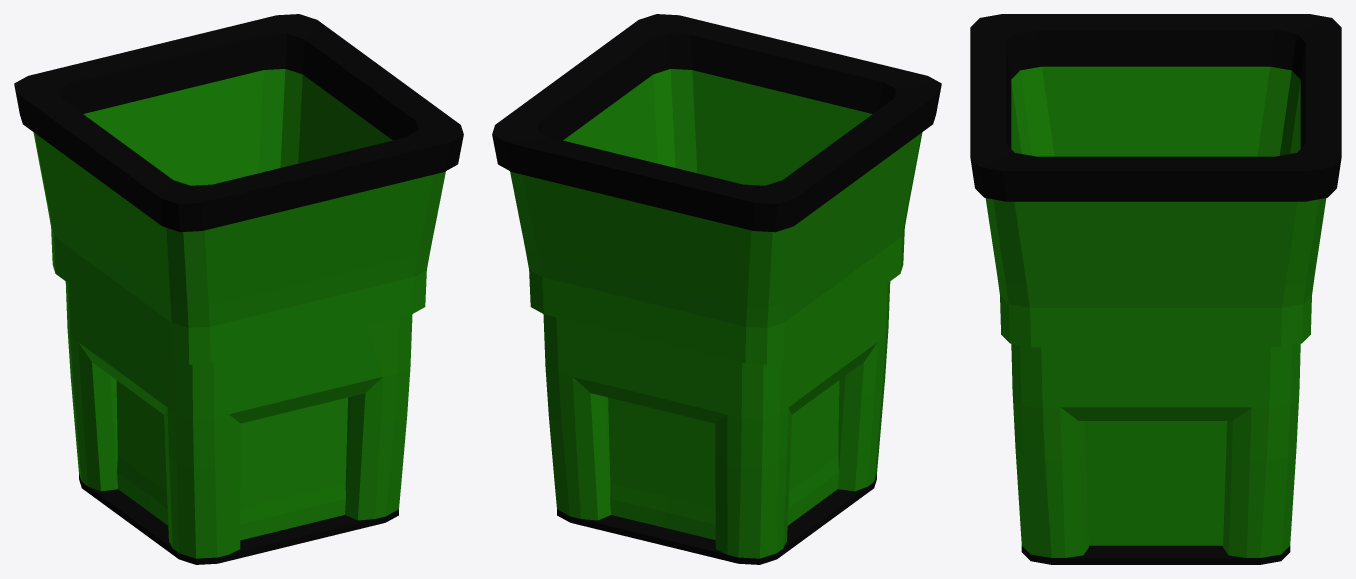
The model's file is Trash_Bin.fbx.
3 views of the same model, side by side, from view 1: azimuth 30°, elevation 25°; view 2: azimuth 150°, elevation 25°; view 3: azimuth 270°, elevation 25° (orthographic). The views are drawn at different scales.
Visible parts, largest first — view 1: Cube; view 2: Cube; view 3: Cube.
Boxes of the visible parts, bbox=[...] form: Cube: bbox=[14, 14, 463, 564]; Cube: bbox=[492, 14, 941, 564]; Cube: bbox=[970, 14, 1341, 564].
Bounding box in the file's own units: 221 × 273 × 221.
